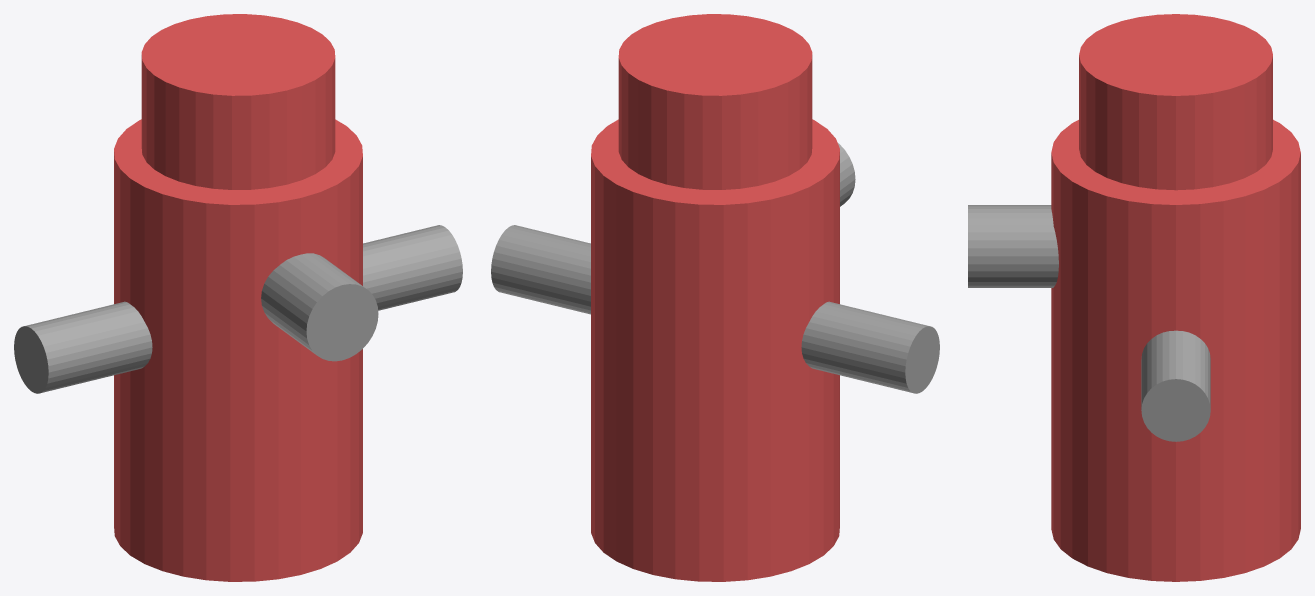
File: prop_street_fire_hydrant_lod0.gltf
3 views of the same model, side by side, from view 1: azimuth 30°, elevation 25°; view 2: azimuth 150°, elevation 25°; view 3: azimuth 270°, elevation 25° (orthographic).
Parts seen in each view (by area): view 1: prop_street_fire_hydrant; view 2: prop_street_fire_hydrant; view 3: prop_street_fire_hydrant.
Boxes of the visible parts, <box> form: prop_street_fire_hydrant: <box>14,14,462,581</box>; prop_street_fire_hydrant: <box>491,14,939,581</box>; prop_street_fire_hydrant: <box>968,14,1300,581</box>.
Bounding box in the file's own units: 0.69 × 0.755 × 0.48.
